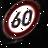Speed Limit -60-: (0, 0, 43, 43)
